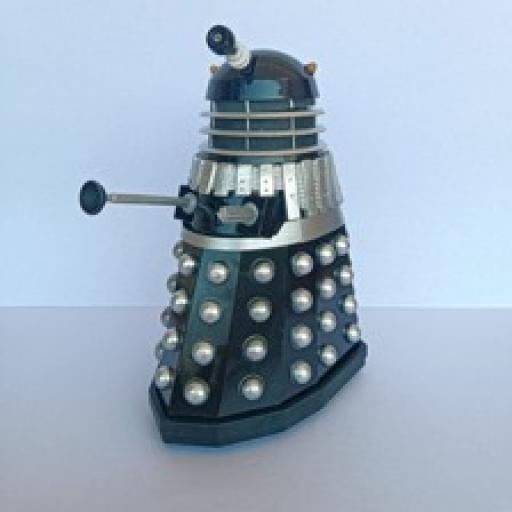dalek: (75, 22, 372, 462)
